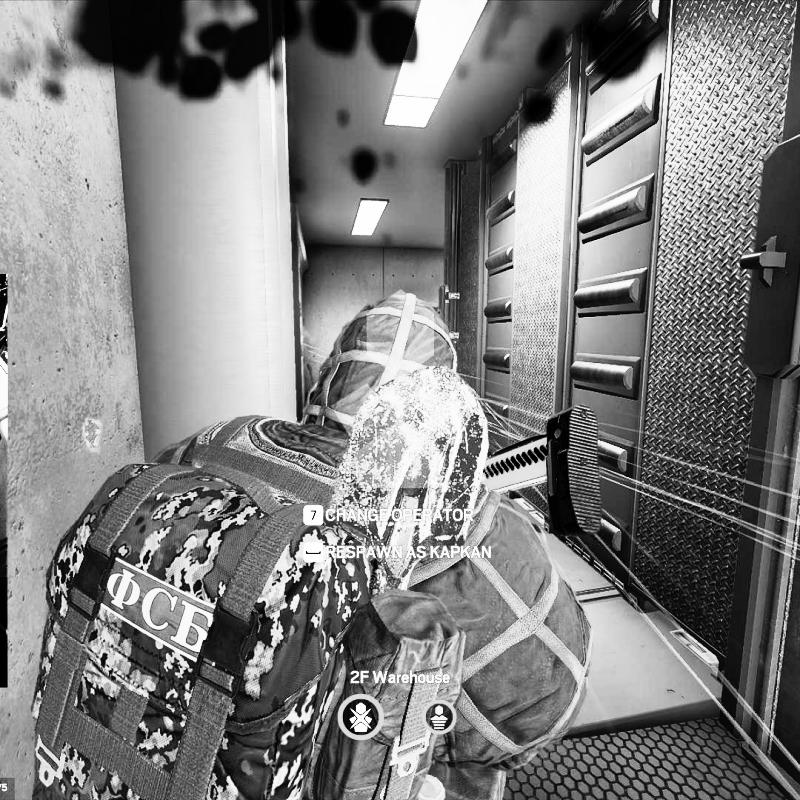Character: (32, 285, 602, 800)
Head: (310, 288, 462, 466)
